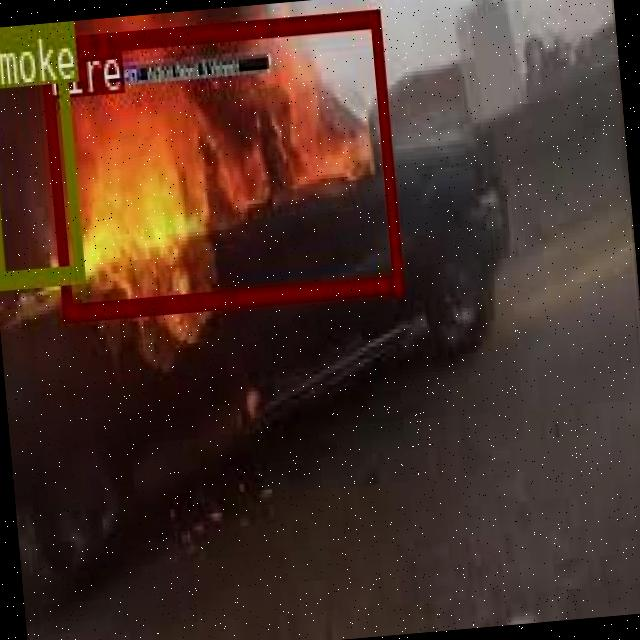fire: (38, 5, 402, 320)
smoke: (0, 21, 83, 287)
